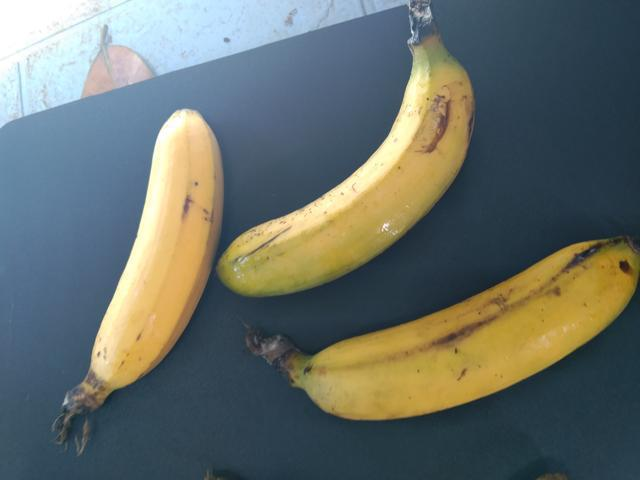freshripe: (55, 97, 236, 418)
ripe: (258, 232, 639, 441), (206, 46, 501, 308)
